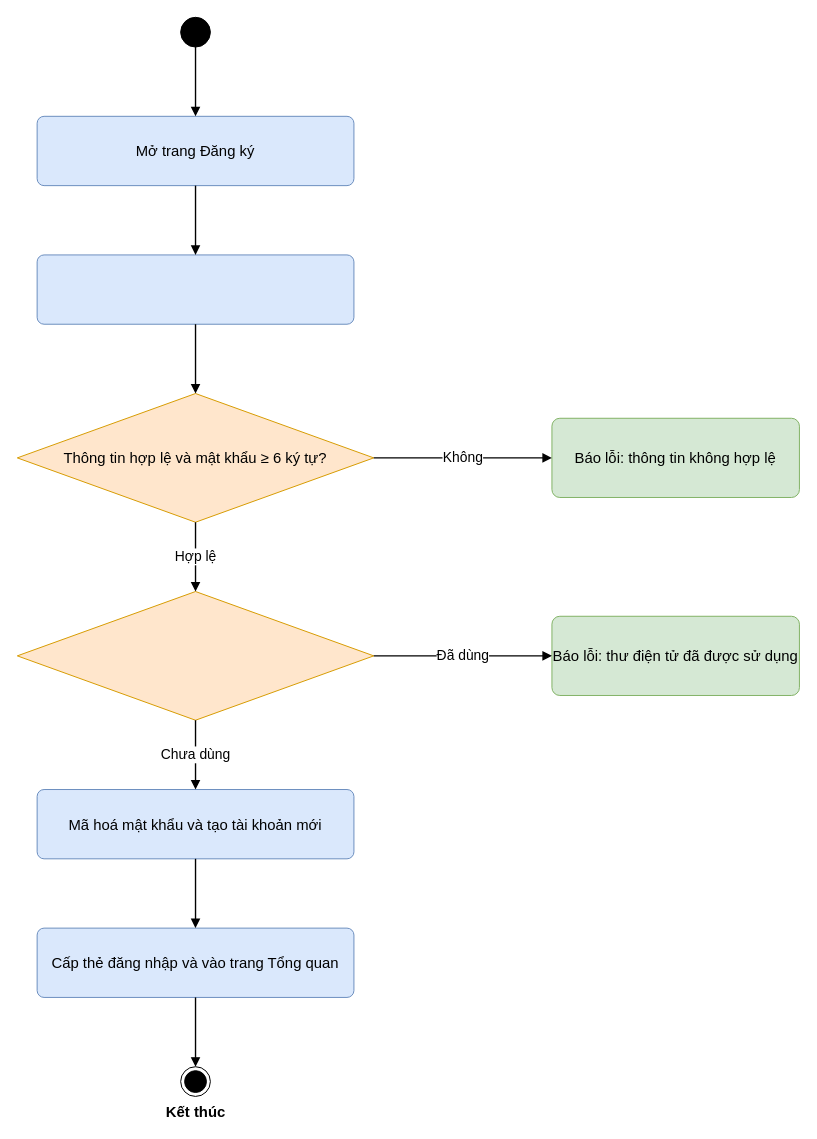
The diagram is 817 pixels wide and 1139 high, and some of its shapes have lost their labels. Here are the shapes that lost their labels. From the top down, the centre of each, then its label:
At (195,31): "Bắt đầu".
At (195,289): "Nhập họ tên, thư điện tử, mật khẩu".
At (195,655): "Thư điện tử đã được đăng ký?".
